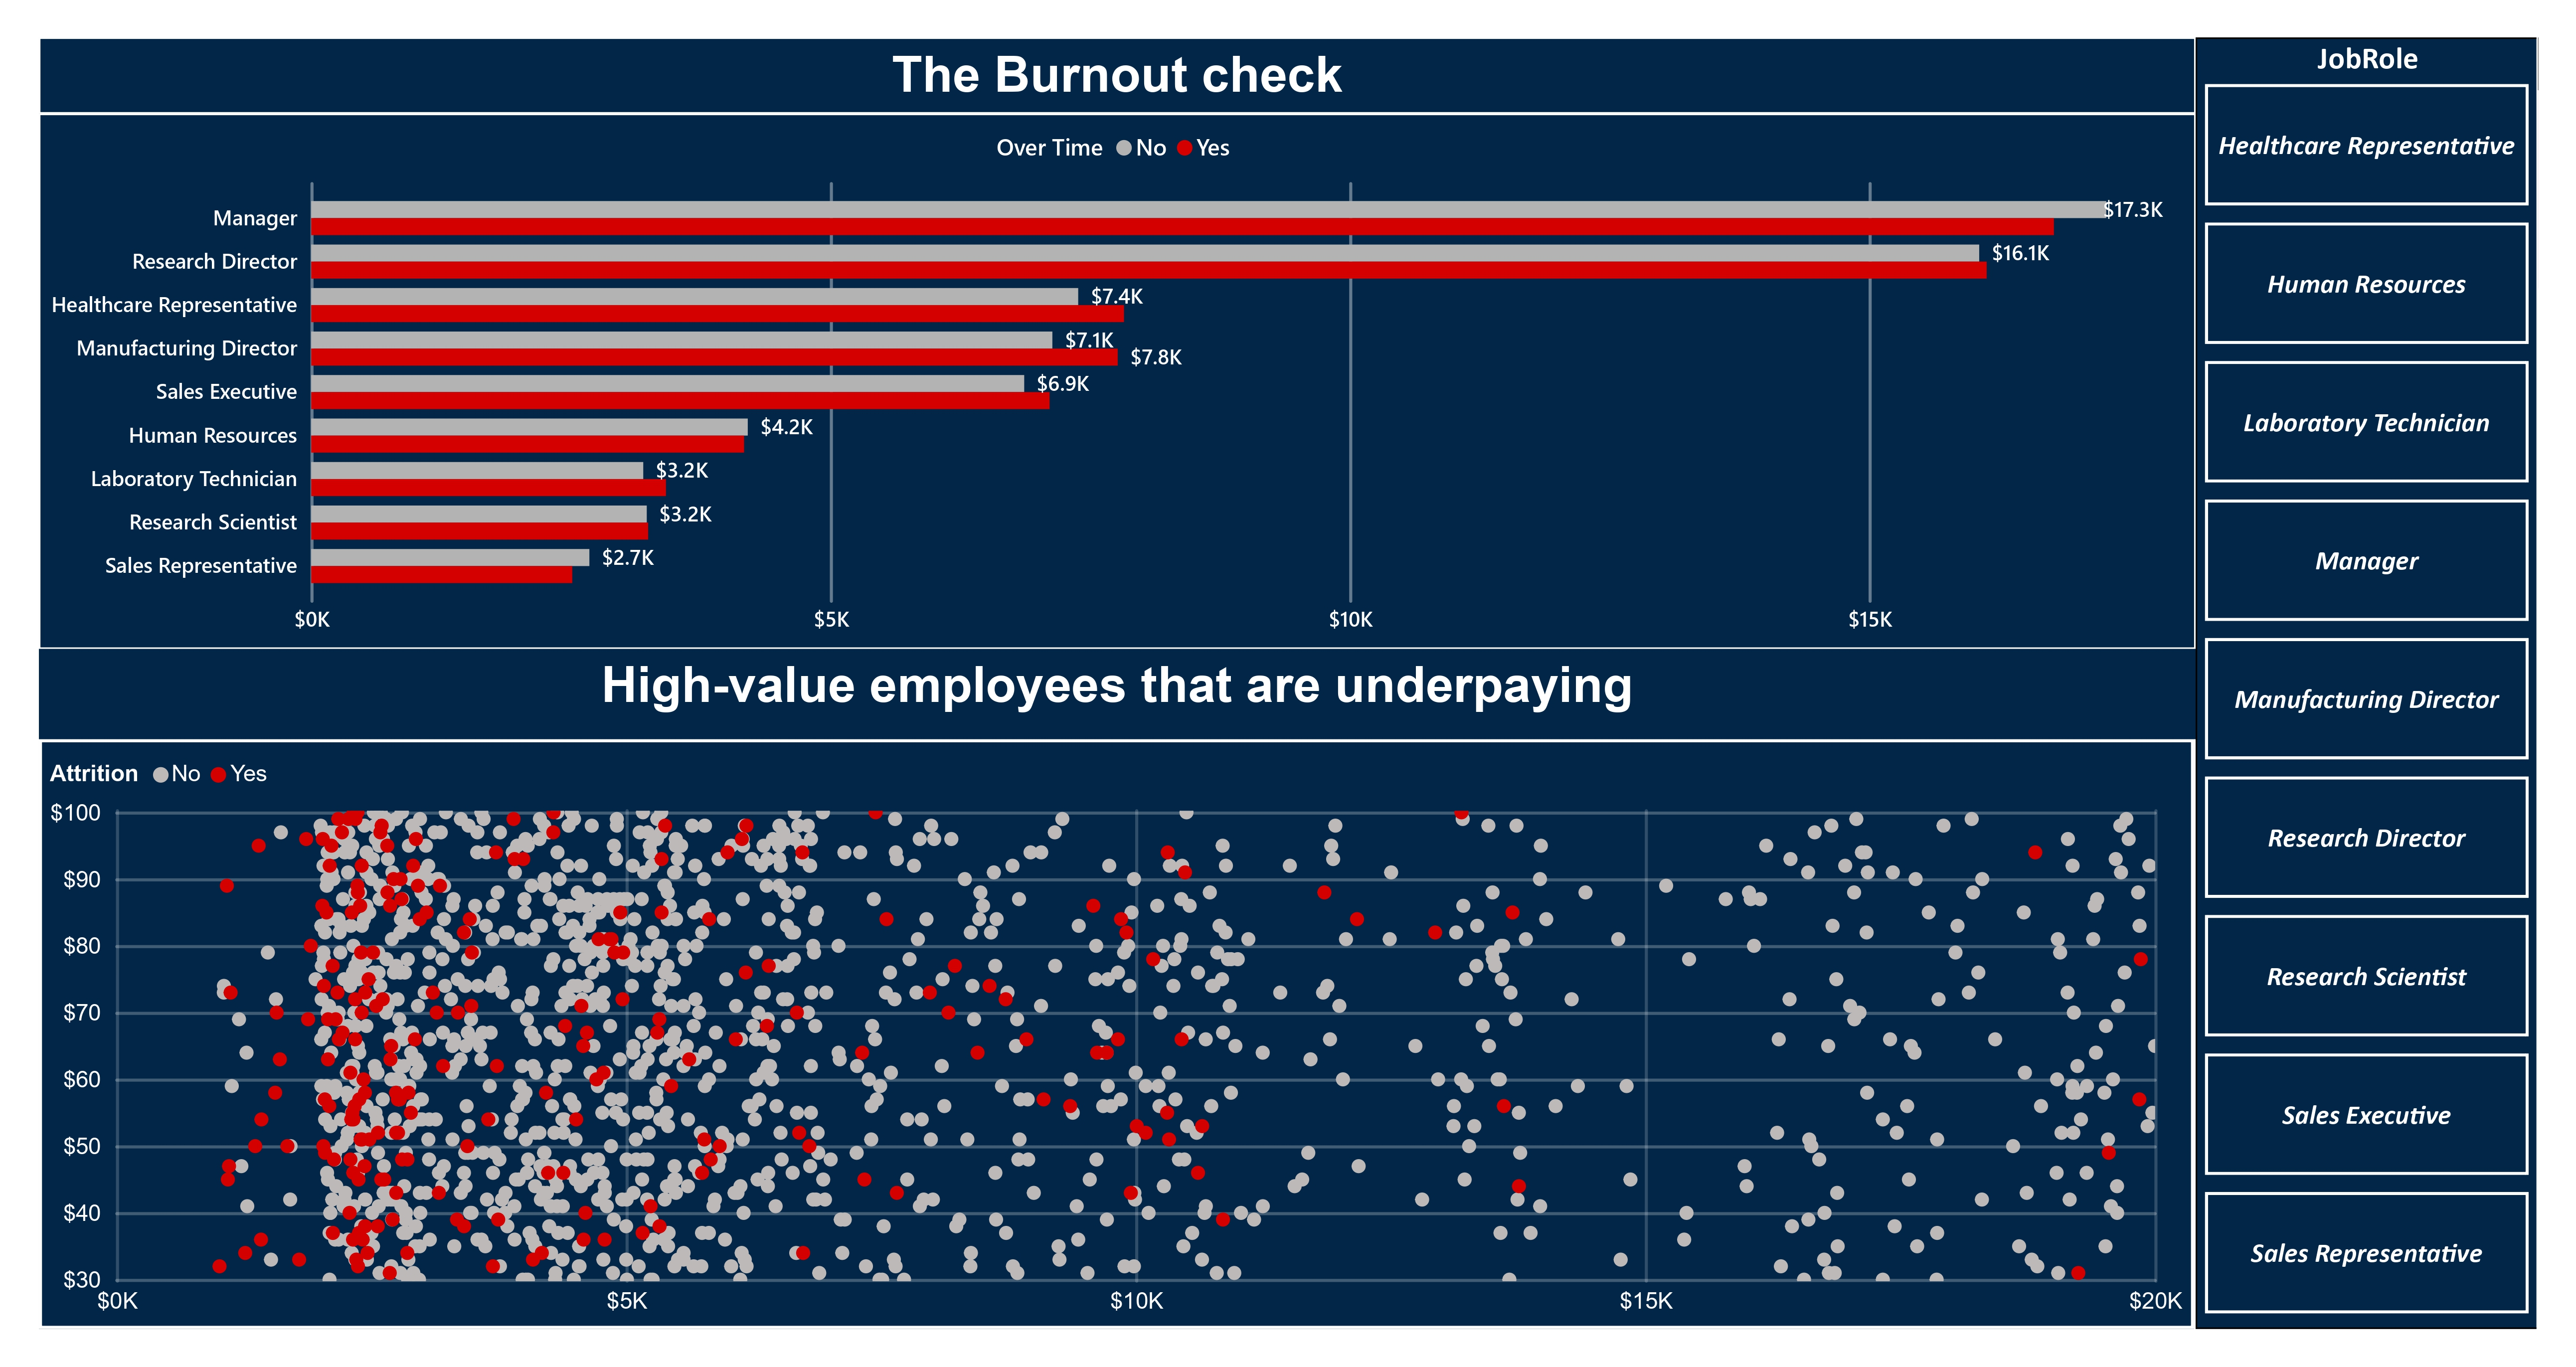

The dashboard page shown, as its layout file describes it:
{"tool":"powerbi","page":{"name":"Page 2","canvas":[1605,830],"ordinal":1},"visuals":[{"type":"clusteredBarChart","fields":{"Category":["HR_Analytics.JobRole"],"Y":["HR_Analytics.Average Monthly Income"],"Series":["HR_Analytics.OverTime"]},"box":[0,49.1,1385.6,343.9],"z":0},{"type":"textbox","box":[0,0,1385.6,49.1],"z":1000},{"type":"scatterChart","title":"High-value employees that are underpaying","fields":{"Series":["HR_Analytics.Attrition"],"Category":["HR_Analytics.EmployeeNumber"],"X":["Avg(HR_Analytics.MonthlyIncome)"],"Y":["Avg(HR_Analytics.HourlyRate)"]},"box":[0,451.2,1385.3,378.8],"z":2000},{"type":"listSlicer","fields":{"Values":["HR_Analytics.JobRole"]},"box":[1385.6,0,220.2,830],"z":3000},{"type":"textbox","box":[0,393,1385.6,57.6],"z":4000}]}

Visuals, with their boxes on the page's 1605x830 design canvas (x1, y1, x2, y2). These are canvas units, not pixel positions in the 2576x1367 screenshot, which may show the page scaled, cropped or inside an application window:
clusteredBarChart - HR_Analytics.JobRole x HR_Analytics.Average Monthly Income: 0, 49, 1386, 393
textbox: 0, 0, 1386, 49
"High-value employees that are underpaying" scatterChart: 0, 451, 1385, 830
listSlicer - HR_Analytics.JobRole: 1386, 0, 1606, 830
textbox: 0, 393, 1386, 451
